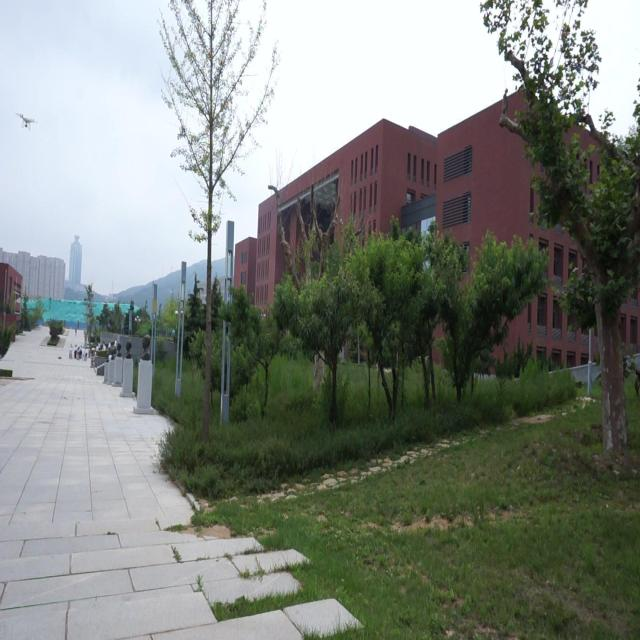drone: (15, 108, 39, 136)
